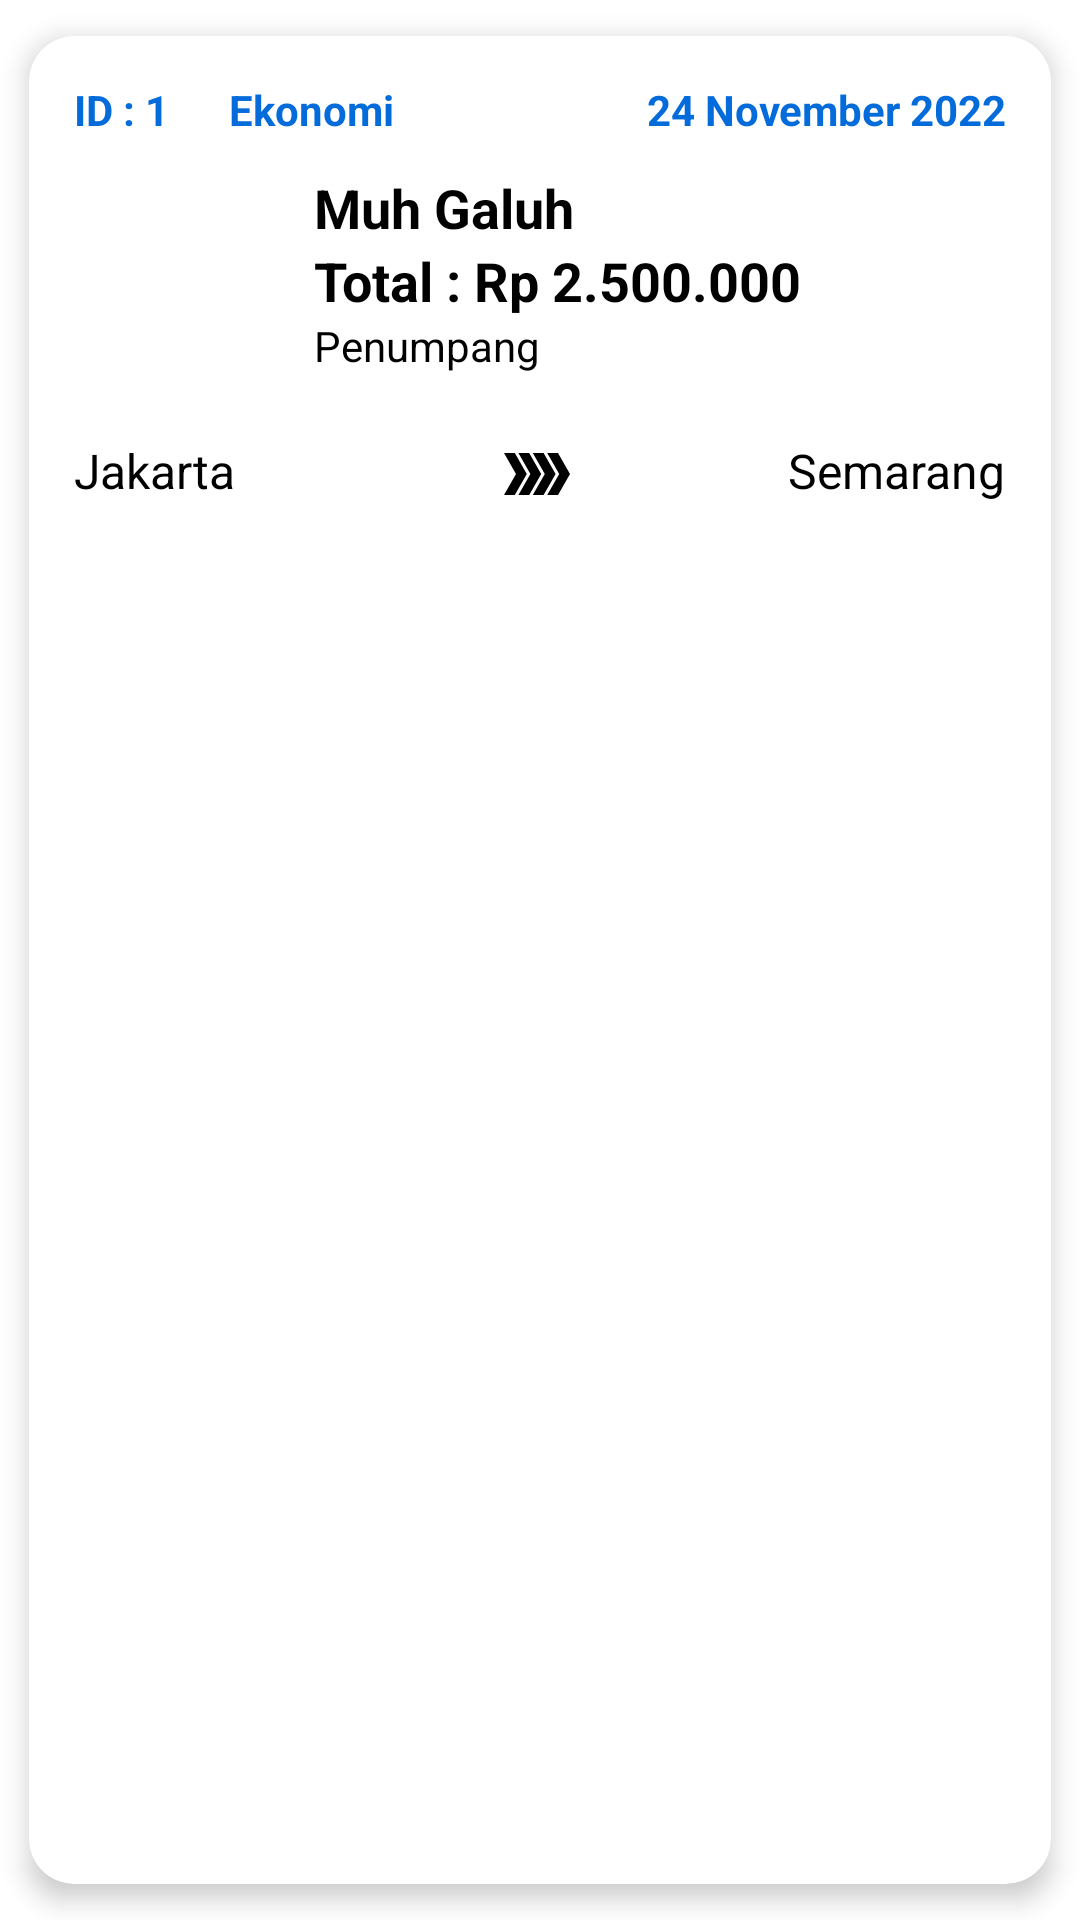

Named icons in this screenshot (1080px×1920px) and their centers, point (x, y):
double arrow: point (537, 474)
